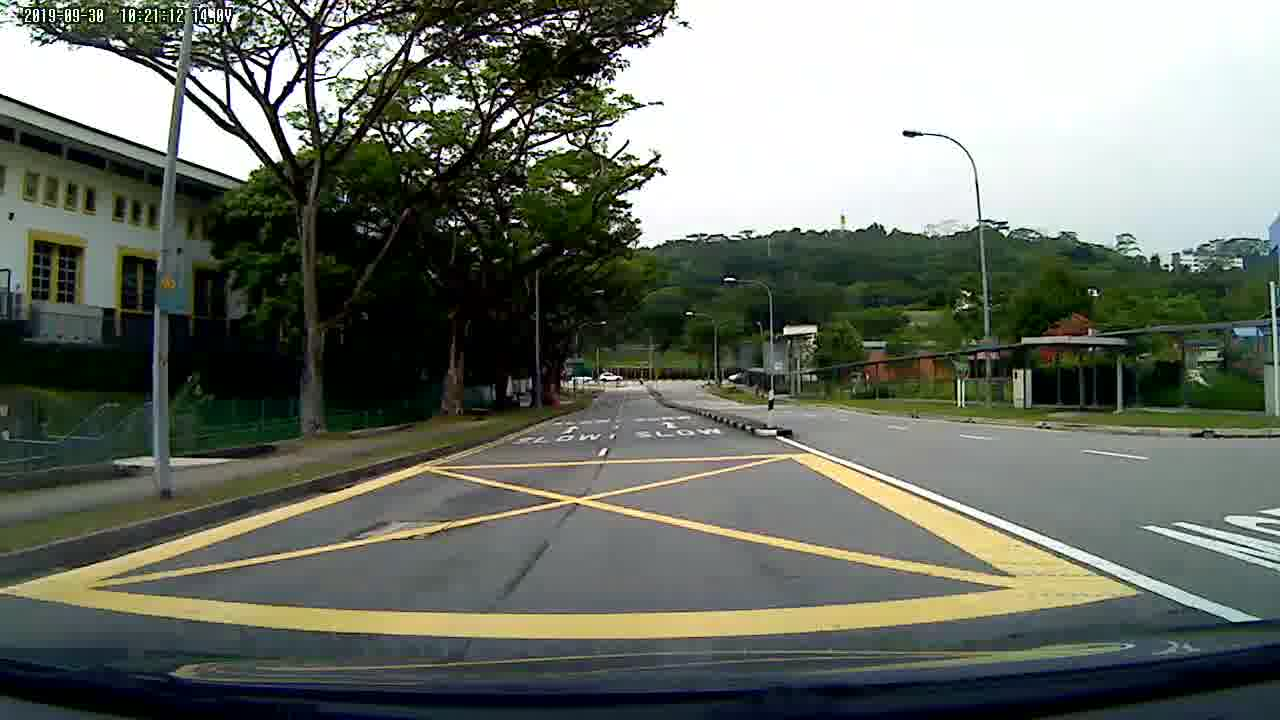car: (596, 370, 618, 382)
